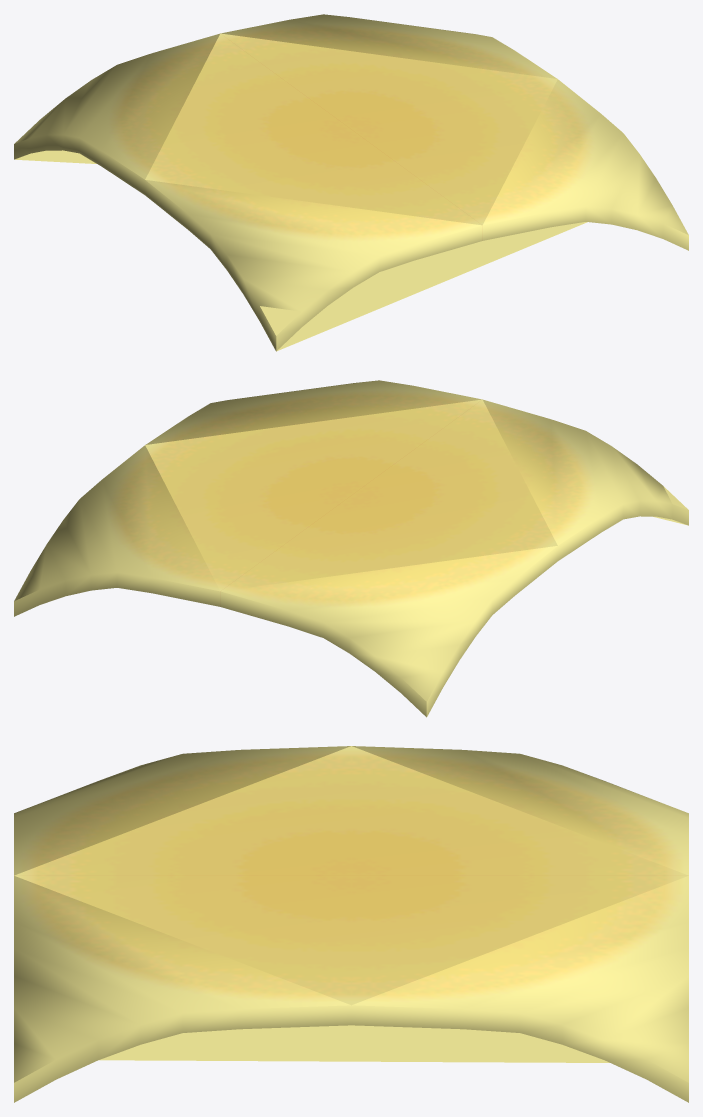
Rendered from cheese.obj.
3 renders of one model, top to bottom at view 1: azimuth 30°, elevation 25°; view 2: azimuth 150°, elevation 25°; view 3: azimuth 270°, elevation 25°, orthographic. The views are drawn at different scales.
Parts seen in each view (by area): view 1: hamburger:mesh0030; view 2: hamburger:mesh0030; view 3: hamburger:mesh0030.
Part boxes in pixels (box(x1,y1,x2,y2)): hamburger:mesh0030: box(14, 14, 688, 351); hamburger:mesh0030: box(14, 380, 688, 717); hamburger:mesh0030: box(14, 746, 688, 1102).
Bounding box in the file's own units: 5.06 × 0.8877 × 5.56.
1 material, 1 textured.
